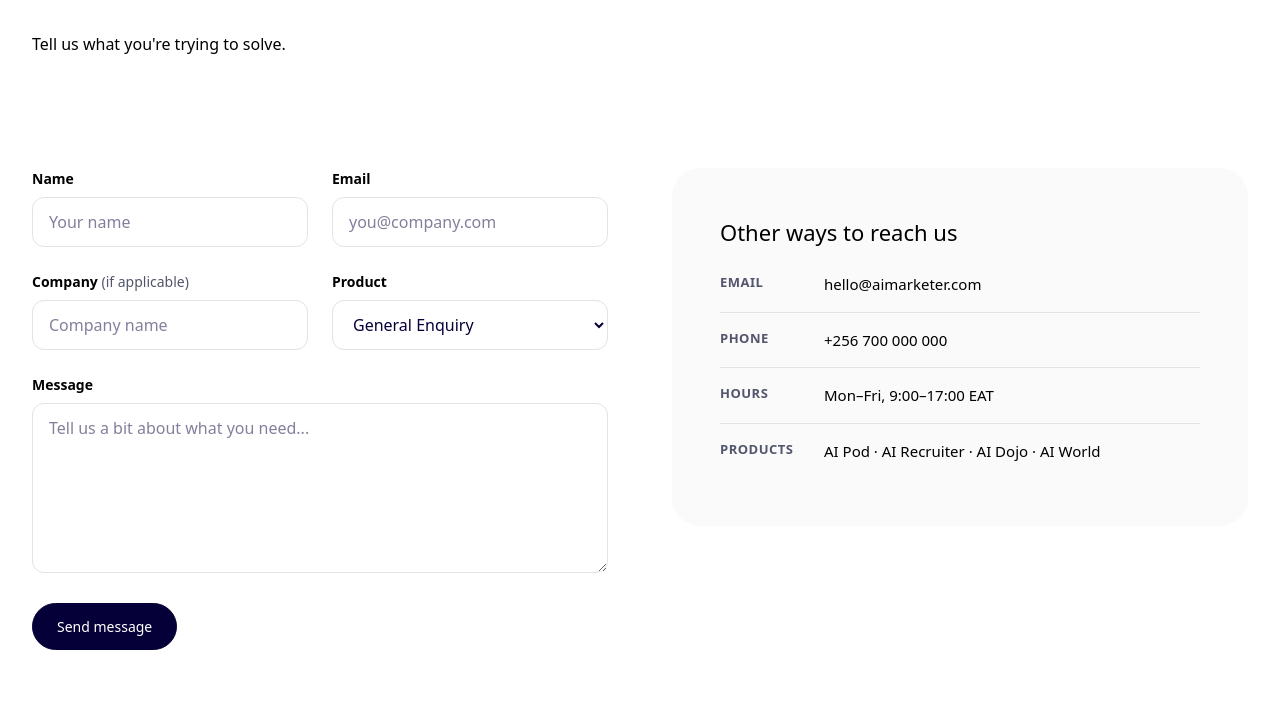
Test: ContactPage › submits form successfully
The image size is (1280, 720).
Type "John" into the field labelled "Name" at [170, 222], box [32,197,308,247]
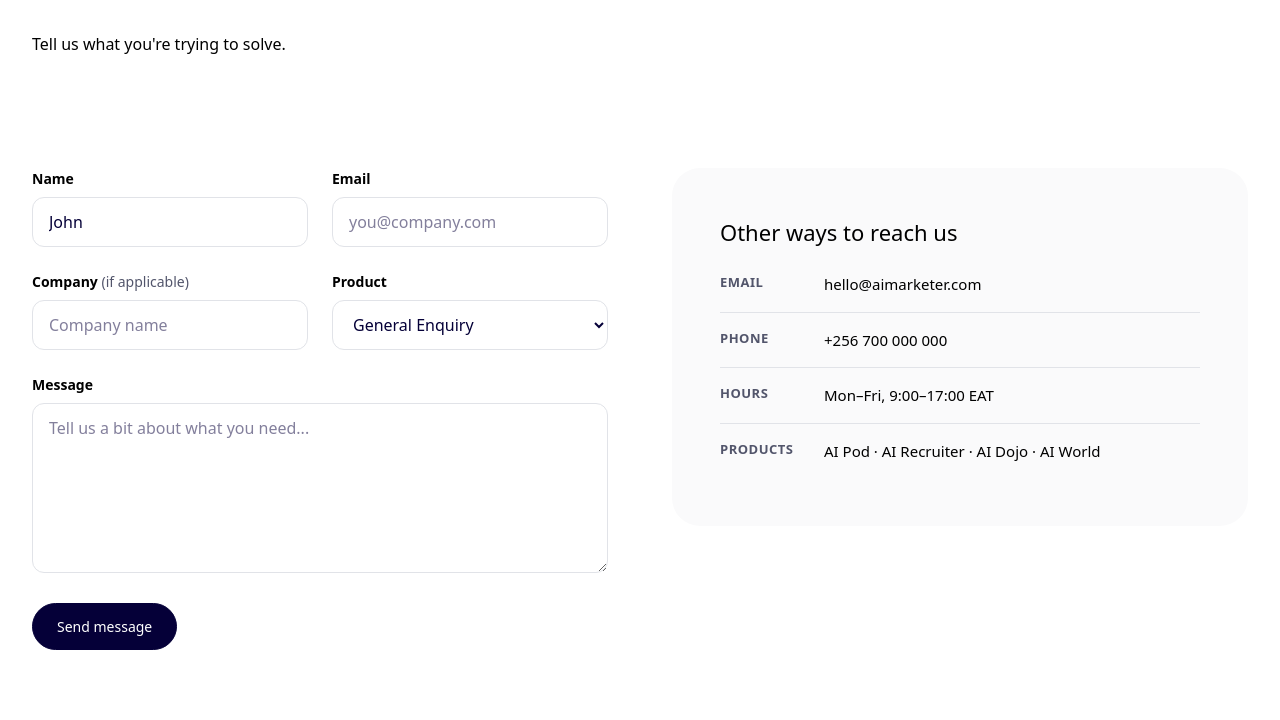
Type "john@test.com" into the field labelled "Email" at [470, 222], box [332,197,608,247]
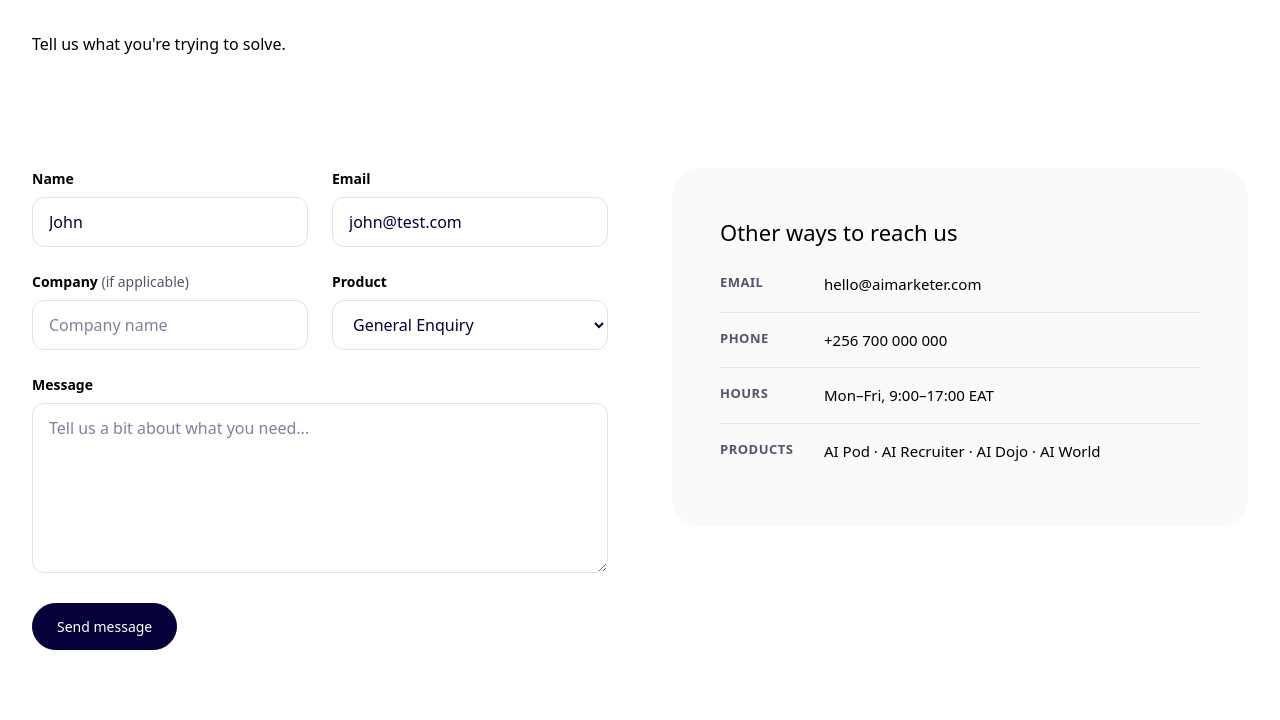
Type "Hello" into the text box labelled "Message" at [320, 488], box [32,403,608,573]
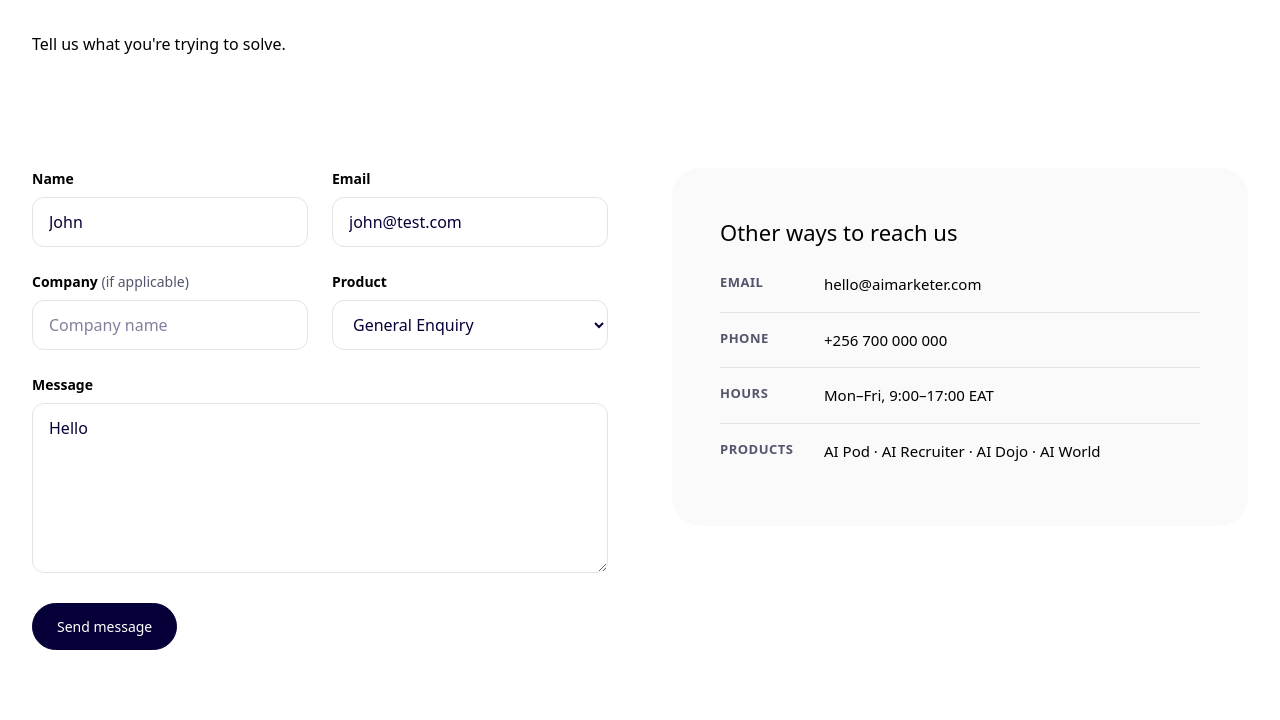
Click the button "Send message" at [105, 626], box [32,603,177,650]
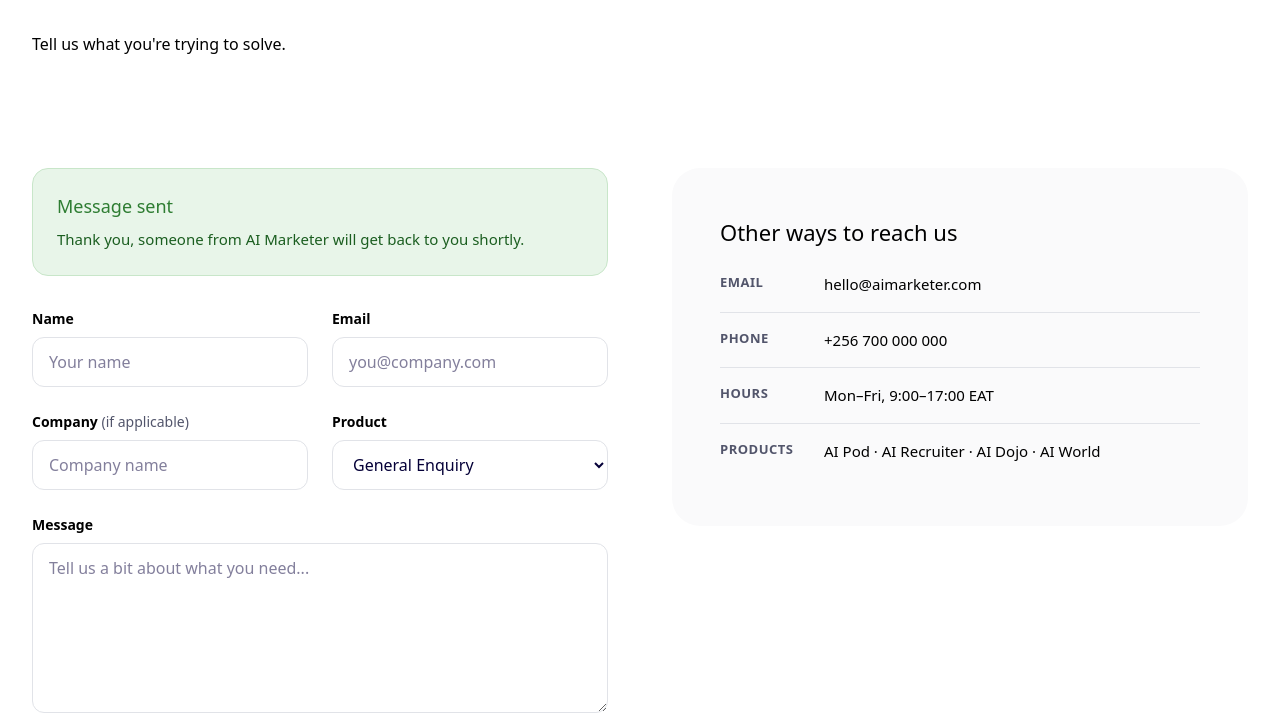
Check: the text "Thank you" is shown, box [57,229,524,249]
